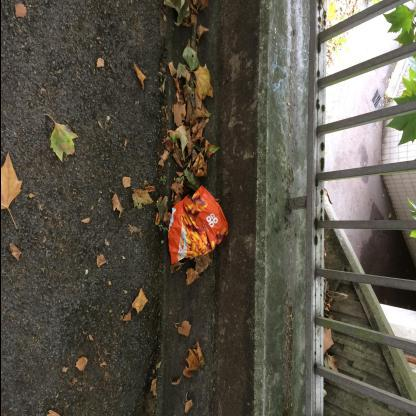plastik: (168, 186, 228, 268)
